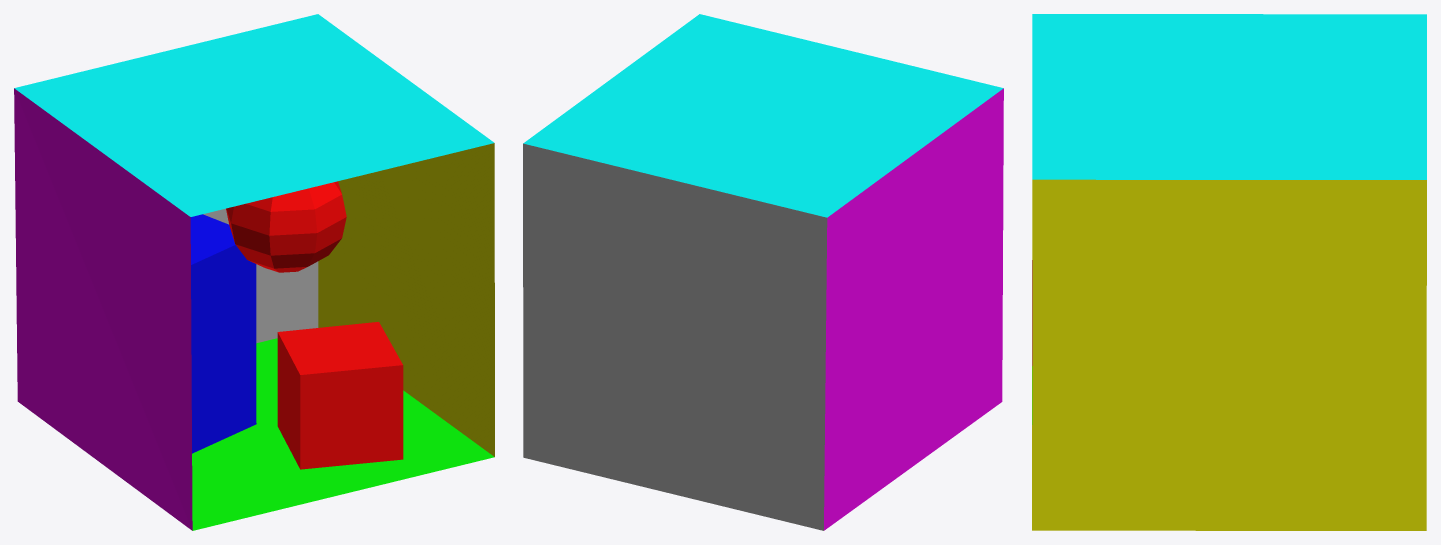
Rendered from cornell-box.obj.
3 views of the same model, side by side, from view 1: azimuth 30°, elevation 25°; view 2: azimuth 150°, elevation 25°; view 3: azimuth 270°, elevation 25° (orthographic). The views are drawn at different scales.
Visible parts, largest first — view 1: left_wall, ceiling, right_wall, floor, short_box, tall_box, sphere, back_wall; view 2: back_wall, left_wall, ceiling; view 3: right_wall, ceiling.
Part boxes in pixels (x1=…): left_wall: x1=14, y1=88, x2=192, y2=530; ceiling: x1=14, y1=14, x2=494, y2=216; right_wall: x1=318, y1=143, x2=494, y2=456; floor: x1=192, y1=338, x2=494, y2=530; short_box: x1=277, y1=322, x2=403, y2=469; tall_box: x1=190, y1=214, x2=256, y2=453; sphere: x1=226, y1=181, x2=346, y2=272; back_wall: x1=203, y1=208, x2=318, y2=343; back_wall: x1=523, y1=143, x2=827, y2=530; left_wall: x1=824, y1=88, x2=1003, y2=530; ceiling: x1=523, y1=14, x2=1003, y2=217; right_wall: x1=1032, y1=179, x2=1426, y2=530; ceiling: x1=1032, y1=14, x2=1426, y2=179.
Size of the model in its own units: 5.56 by 5.49 by 5.6.
